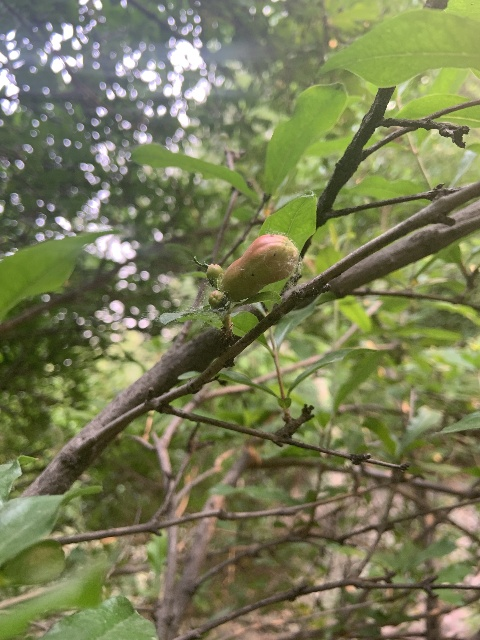bud: (221, 234, 297, 300), (206, 264, 223, 282), (208, 289, 223, 306)
